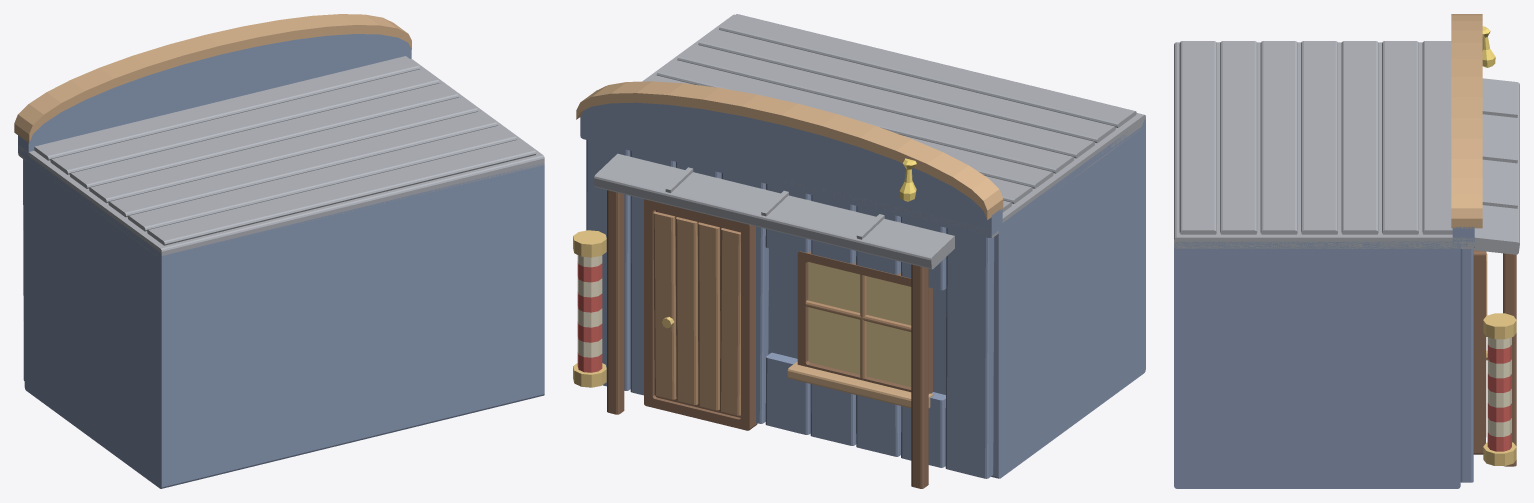
File: Kit_Facade_Blue.fbx
3 views of the same model, side by side, from view 1: azimuth 30°, elevation 25°; view 2: azimuth 150°, elevation 25°; view 3: azimuth 270°, elevation 25° (orthographic). The views are drawn at different scales.
Visible parts, largest first — view 1: Kit_Facade_Blue; view 2: Kit_Facade_Blue; view 3: Kit_Facade_Blue.
Boxes of the visible parts, x1,y1,x2,y2 form: Kit_Facade_Blue: [14, 14, 544, 488]; Kit_Facade_Blue: [573, 14, 1145, 488]; Kit_Facade_Blue: [1174, 14, 1519, 488].
Bounding box in the file's own units: 4 × 3 × 2.99.
